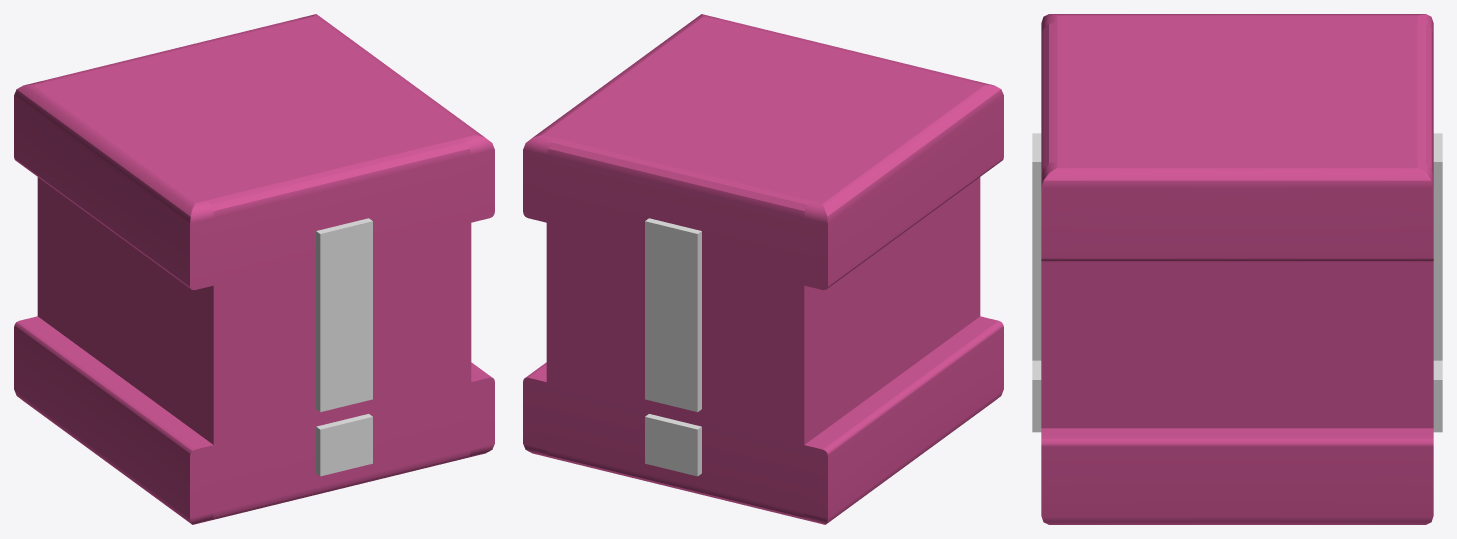
The model's file is SwitchBlock2.fbx.
3 views of the same model, side by side, from view 1: azimuth 30°, elevation 25°; view 2: azimuth 150°, elevation 25°; view 3: azimuth 270°, elevation 25° (orthographic). The views are drawn at different scales.
Visible parts, largest first — view 1: Switch2, ExclamationMark1, ExclamationMark3; view 2: Switch2, ExclamationMark1, ExclamationMark4; view 3: Switch2, ExclamationMark1 (×2), ExclamationMark3, ExclamationMark4.
Part boxes in pixels (x1,y1,x2,y2): Switch2: (14,14,494,524); ExclamationMark1: (316,218,372,412); ExclamationMark3: (316,414,372,476); Switch2: (523,14,1003,524); ExclamationMark1: (645,218,701,412); ExclamationMark4: (645,414,701,476); Switch2: (1041,14,1433,524); ExclamationMark1 (×2): (1032,133,1442,360); ExclamationMark3: (1032,360,1041,432); ExclamationMark4: (1433,360,1442,432).
Size of the model in its own units: 5 by 5 by 5.23.
